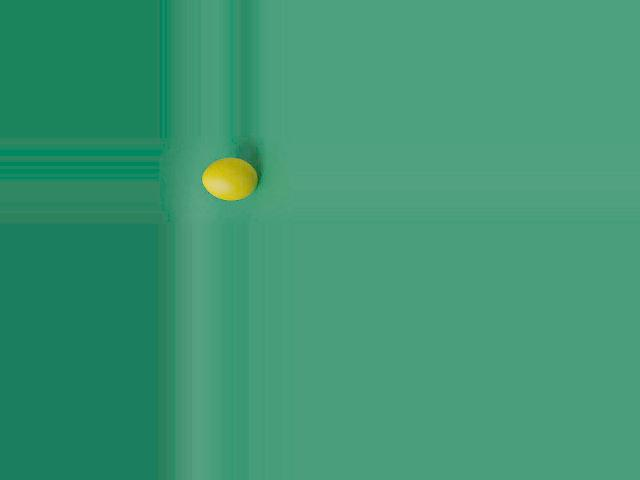egg: (201, 159, 258, 201)
